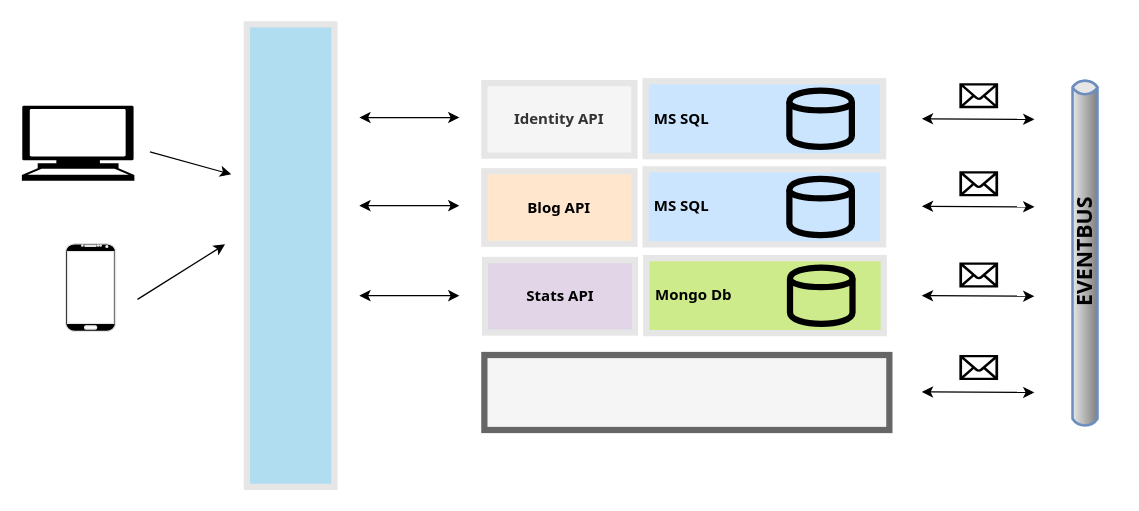
Image size: 1139x511. Some labels were removed from this diagram. Each missing label, with the centre of its shape:
"Gateway API" belongs at (290,255).
"Notification API" belongs at (686,391).
